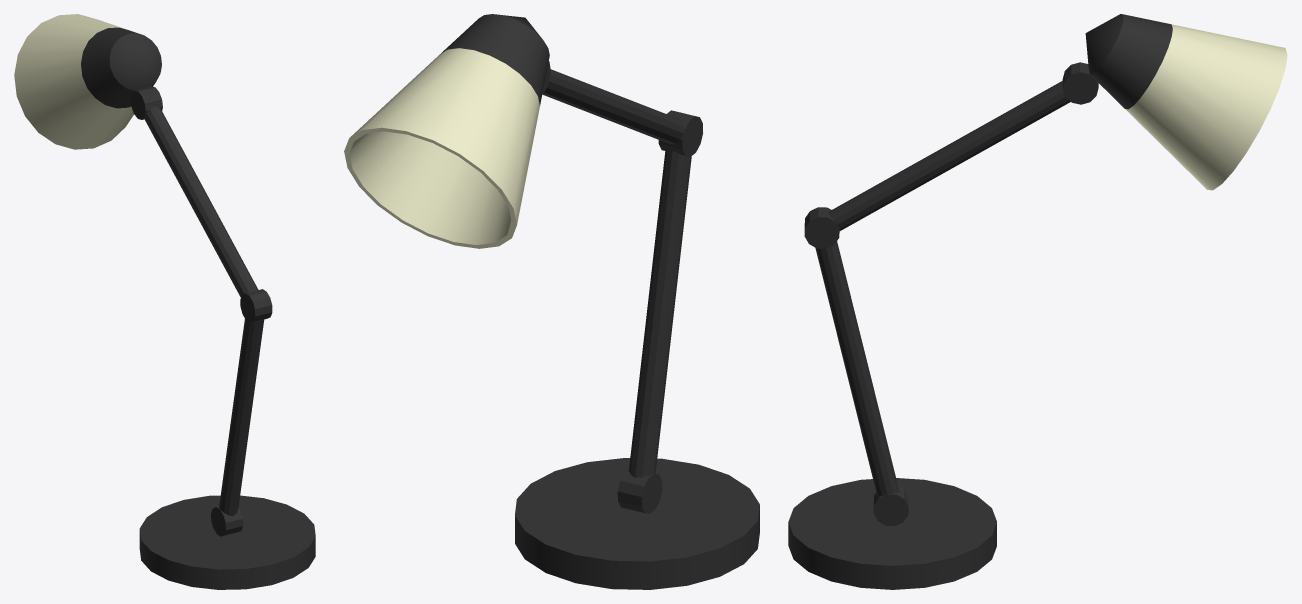
File: lamp_3.fbx
The picture shows the model from 3 angles, left to right: view 1: azimuth 30°, elevation 25°; view 2: azimuth 150°, elevation 25°; view 3: azimuth 270°, elevation 25°; orthographic projection. The views are drawn at different scales.
Visible parts, largest first — view 1: polySurface344, polySurface293, pCylinder43, polySurface294, pCylinder42; view 2: polySurface293, polySurface344, pCylinder43, polySurface294, pCylinder42; view 3: polySurface344, polySurface293, pCylinder43, pCylinder42, polySurface294.
Boxes of the visible parts, x1,y1,x2,y2 form: polySurface344: (139,495,315,589); polySurface293: (14,14,133,149); pCylinder43: (211,289,272,536); polySurface294: (81,27,161,108); pCylinder42: (130,86,258,297); polySurface293: (344,48,539,248); polySurface344: (515,458,759,589); pCylinder43: (617,110,702,514); polySurface294: (441,14,549,105); pCylinder42: (542,61,684,144); polySurface344: (788,478,996,589); polySurface293: (1125,24,1287,190); pCylinder43: (804,207,908,525); pCylinder42: (828,62,1098,230); polySurface294: (1085,14,1172,109).
Bounding box in the file's own units: 2 × 5.58 × 4.78.
